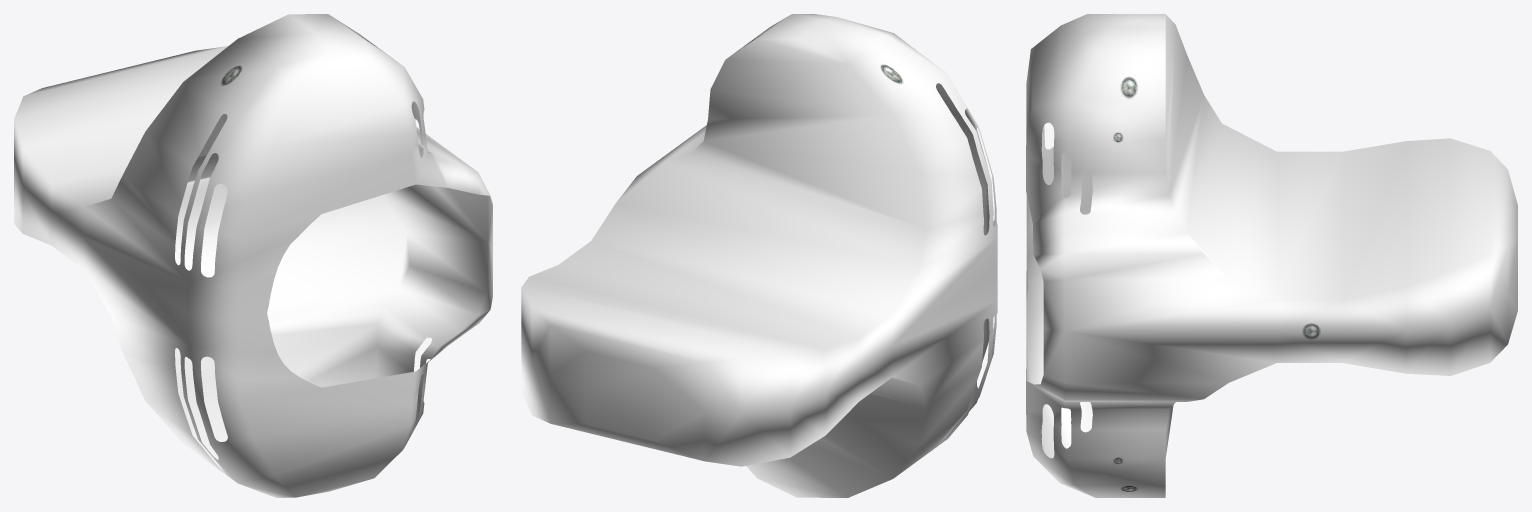
Rendered from pelvis.obj.
The picture shows the model from 3 angles, left to right: view 1: azimuth 30°, elevation 25°; view 2: azimuth 150°, elevation 25°; view 3: azimuth 270°, elevation 25°; orthographic projection.
Size of the model in its own units: 0.235 by 0.3416 by 0.3302.
1 material, 1 textured.
